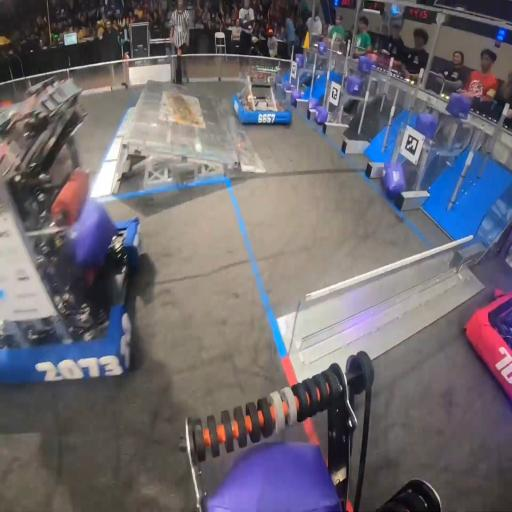robot: (0, 76, 141, 384), (464, 291, 512, 403), (232, 73, 293, 127)
